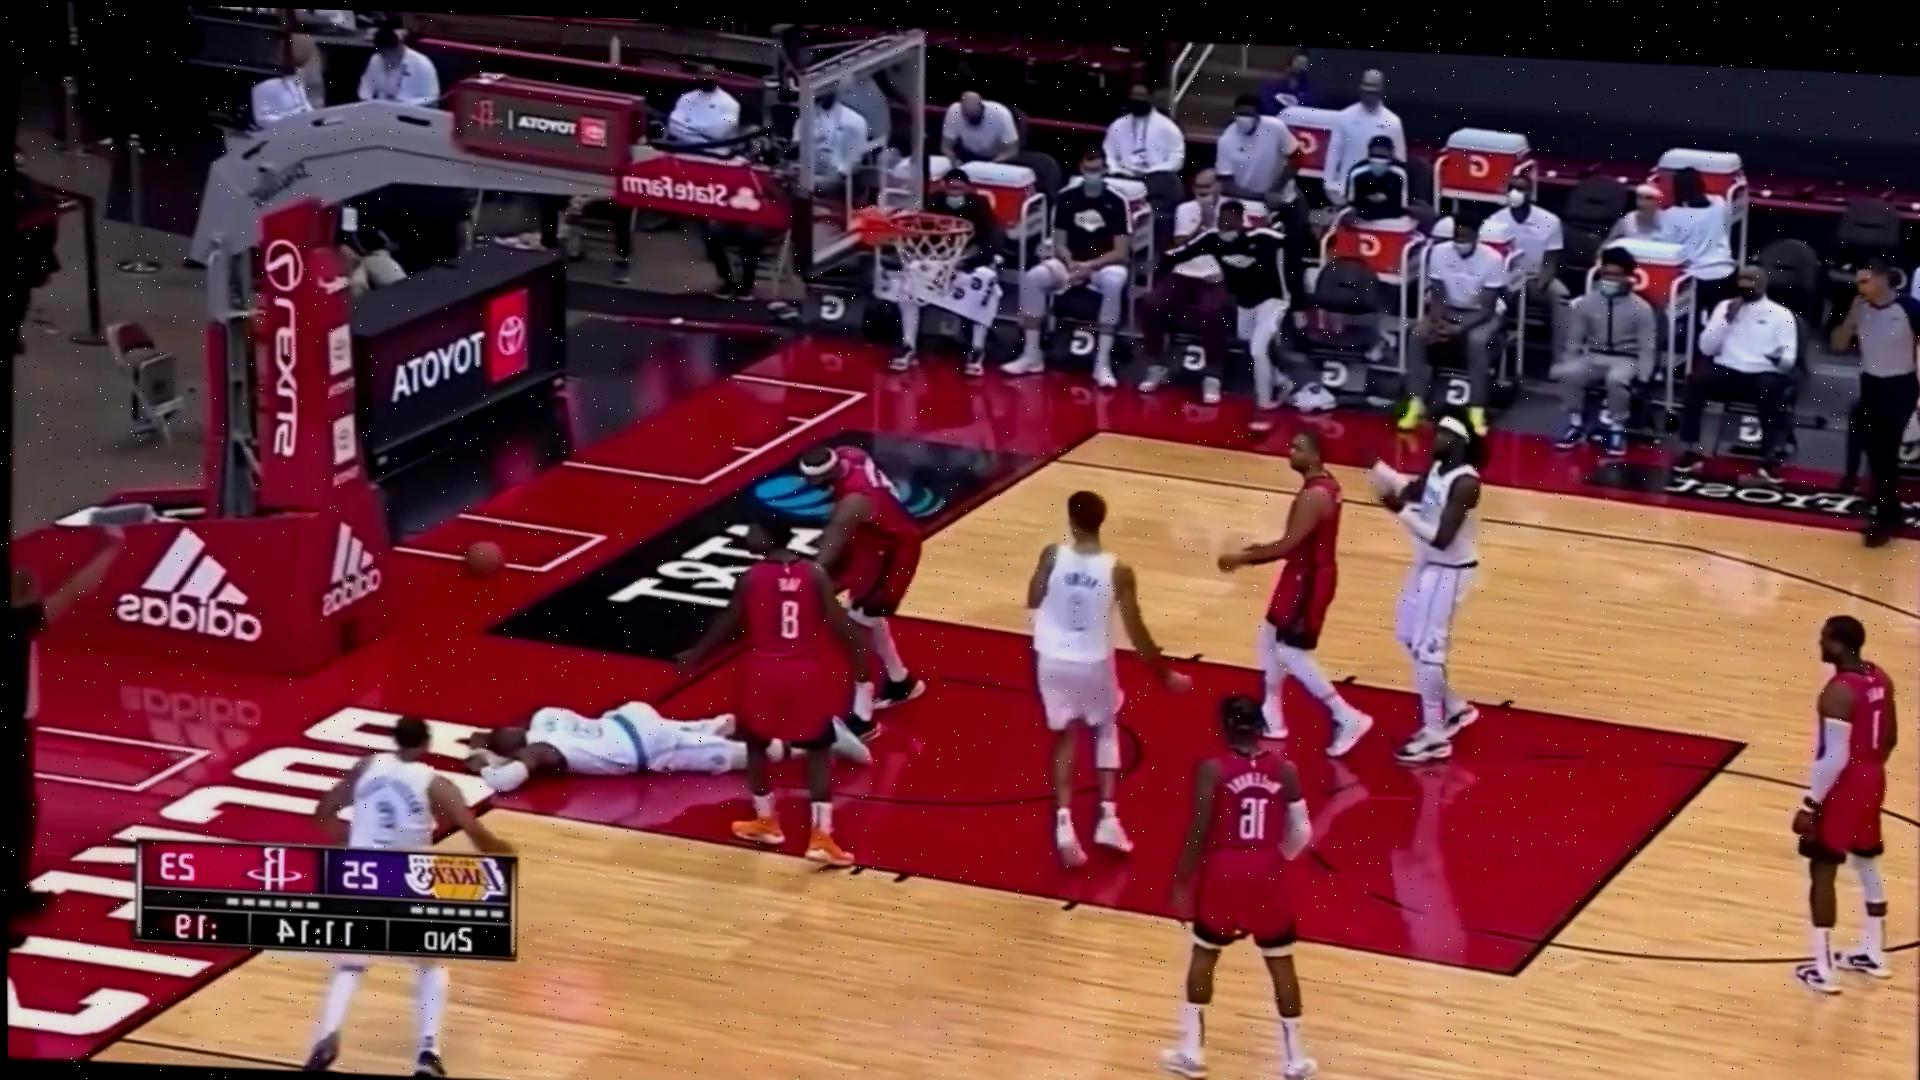foul: (500, 498, 926, 844)
